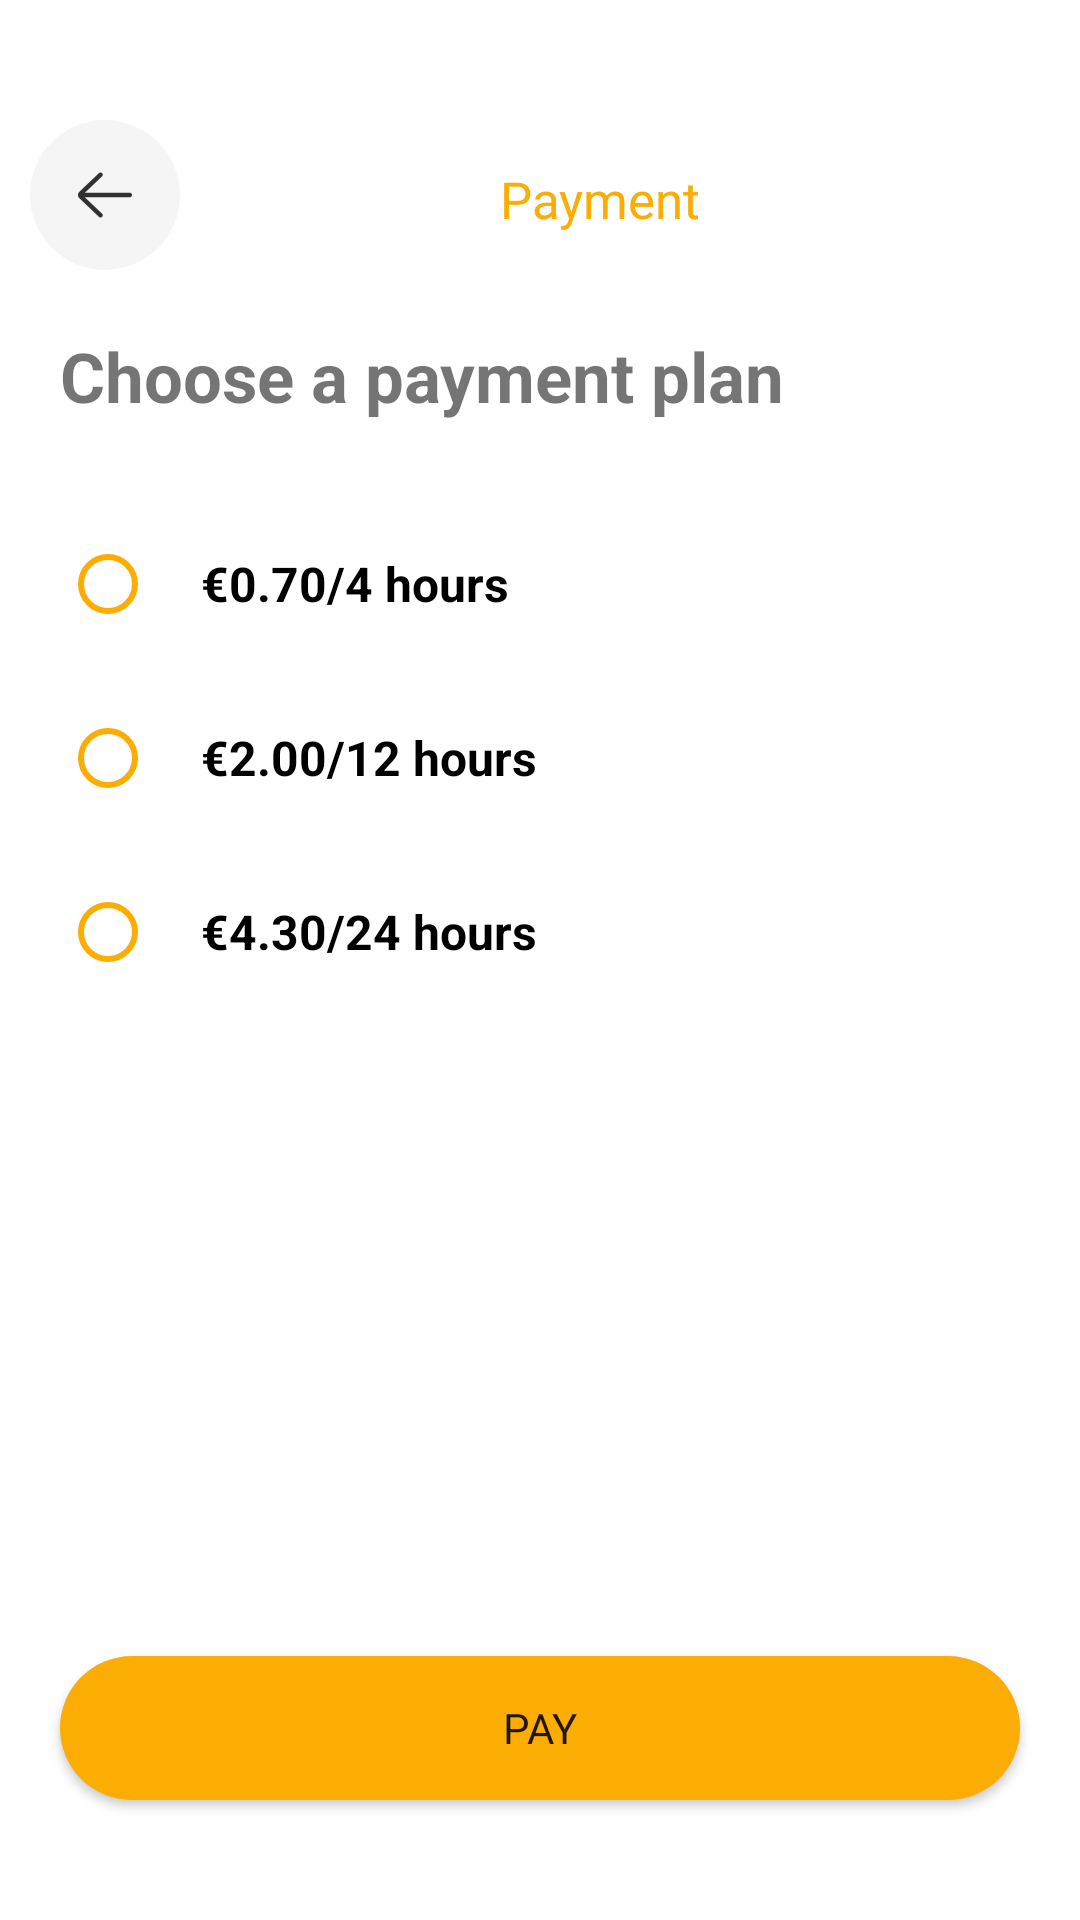

Where to tap for icons on this 1080x1920 app screen, as point (x, y):
back: point (105, 195)
